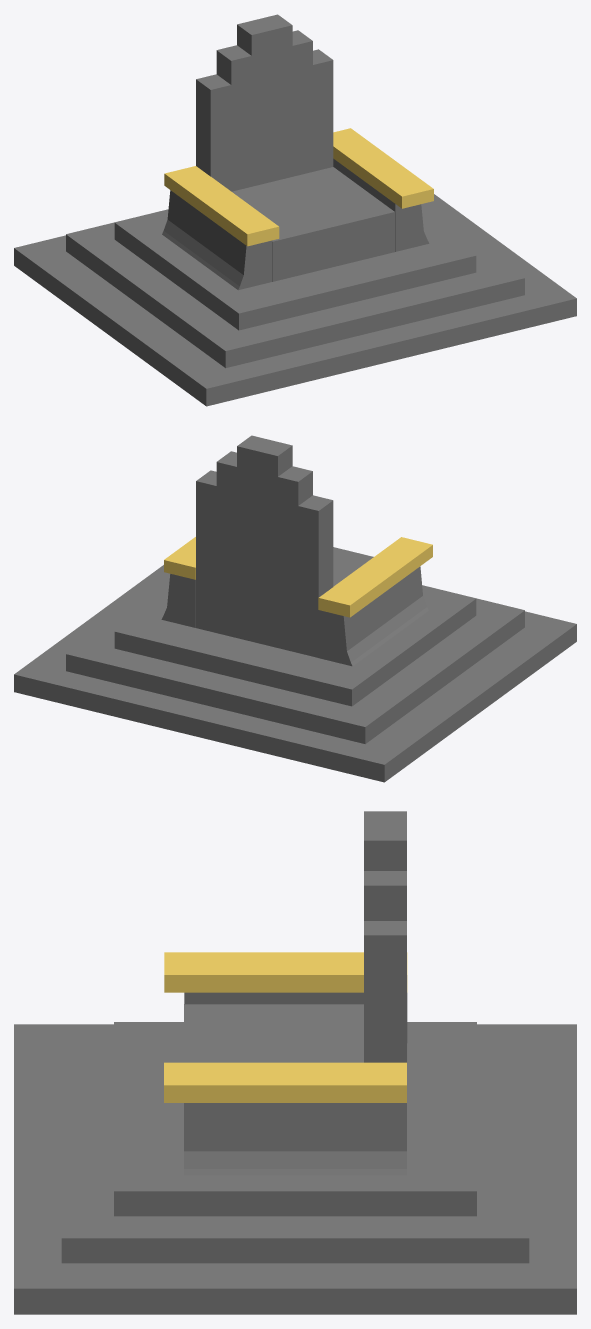
The model's file is Throne.fbx.
3 views of the same model, one above another, from view 1: azimuth 30°, elevation 25°; view 2: azimuth 150°, elevation 25°; view 3: azimuth 270°, elevation 25° (orthographic). The views are drawn at different scales.
Parts seen in each view (by area): view 1: pCube9; view 2: pCube9; view 3: pCube9.
Part boxes in pixels (x1,y1,x2,y2): pCube9: [14, 14, 576, 406]; pCube9: [14, 435, 576, 782]; pCube9: [14, 811, 576, 1314].
Size of the model in its own units: 381 by 240 by 343.
